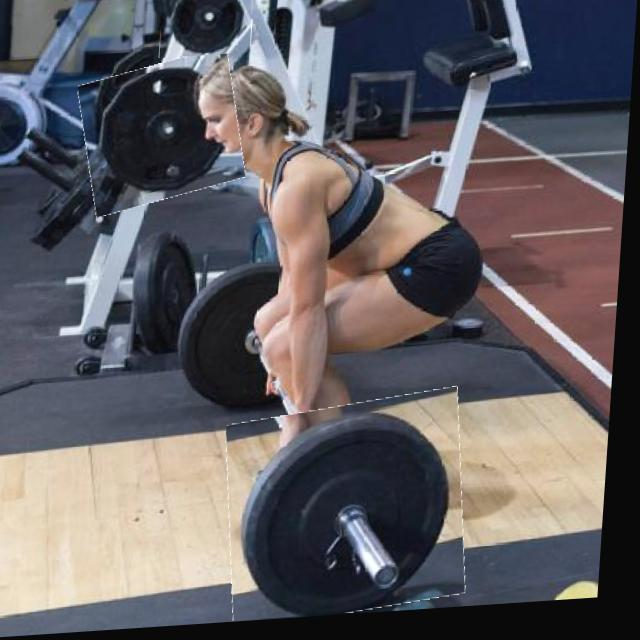barbell: (228, 399, 481, 627), (79, 56, 250, 214), (160, 1, 256, 61)
